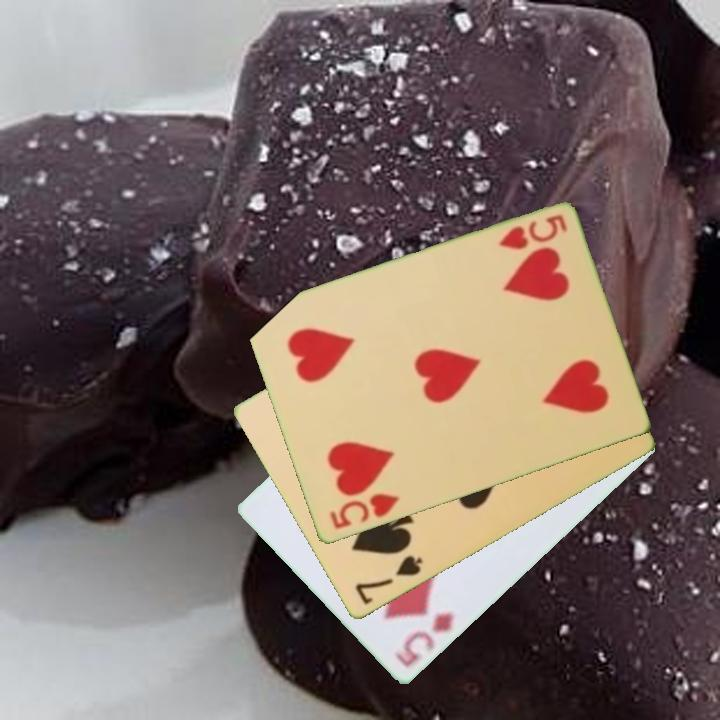5d: (390, 609, 457, 671)
5h: (325, 490, 403, 533), (496, 211, 570, 254)
7s: (351, 552, 426, 608)
